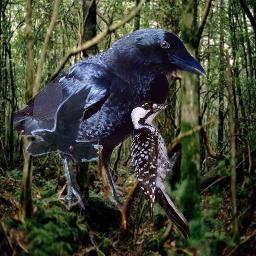Crow: (13, 28, 206, 214), (25, 83, 99, 162)
Woodpecker: (129, 101, 190, 242)
